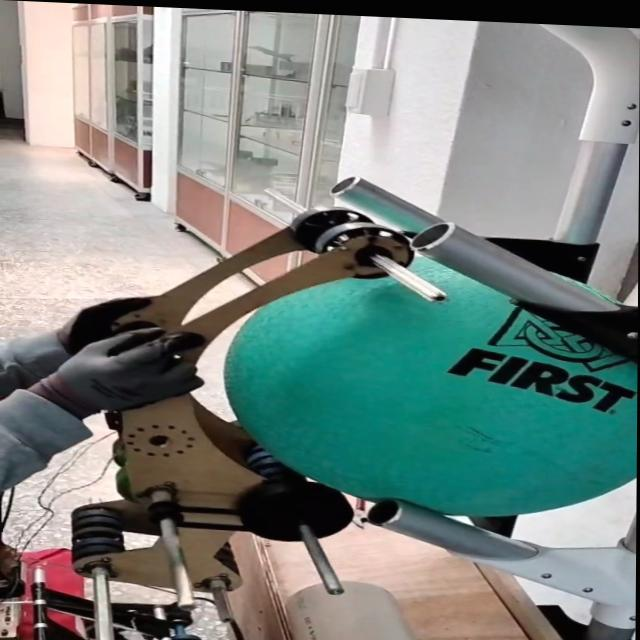ALGAE: (224, 240, 638, 524)
CORAL: (286, 571, 447, 640)
